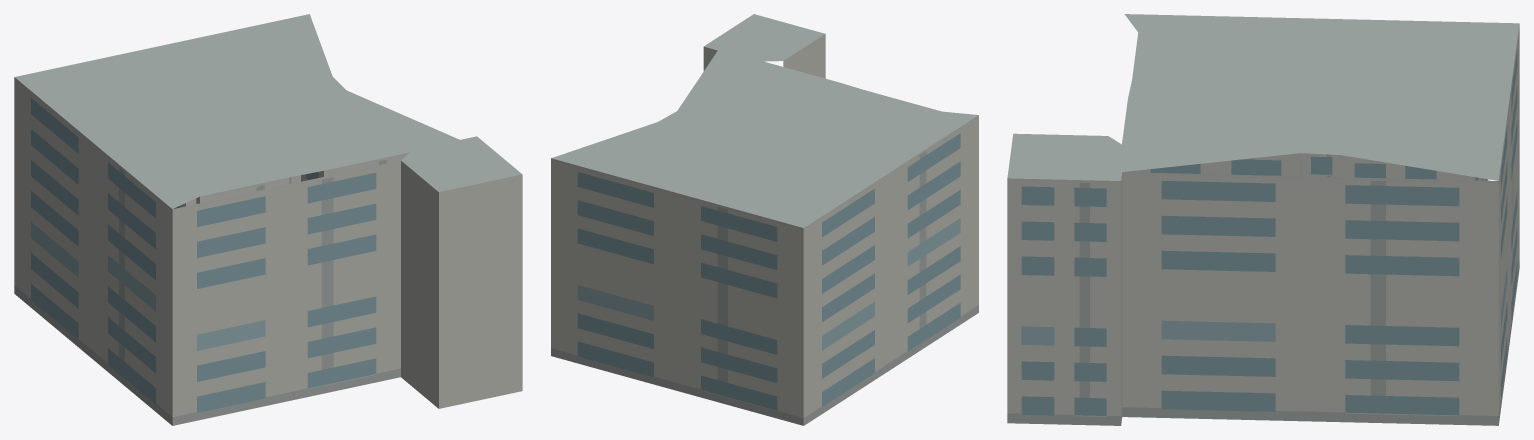
The model's file is residential-e40e2f2d-124a-4c2c-944c-cf22c1c4ab9d.glb.
3 views of the same model, side by side, from view 1: azimuth 30°, elevation 25°; view 2: azimuth 150°, elevation 25°; view 3: azimuth 270°, elevation 25° (orthographic). The views are drawn at different scales.
Visible parts, largest first — view 1: residential-e40e2f2d-124a-4c2c-944c-cf22c1c4ab9d.tmp; view 2: residential-e40e2f2d-124a-4c2c-944c-cf22c1c4ab9d.tmp; view 3: residential-e40e2f2d-124a-4c2c-944c-cf22c1c4ab9d.tmp.
Boxes of the visible parts, <box> form: residential-e40e2f2d-124a-4c2c-944c-cf22c1c4ab9d.tmp: <box>14,14,522,425</box>; residential-e40e2f2d-124a-4c2c-944c-cf22c1c4ab9d.tmp: <box>551,14,978,425</box>; residential-e40e2f2d-124a-4c2c-944c-cf22c1c4ab9d.tmp: <box>1007,14,1519,425</box>.
Size of the model in its own units: 31.25 by 21.35 by 40.48.
